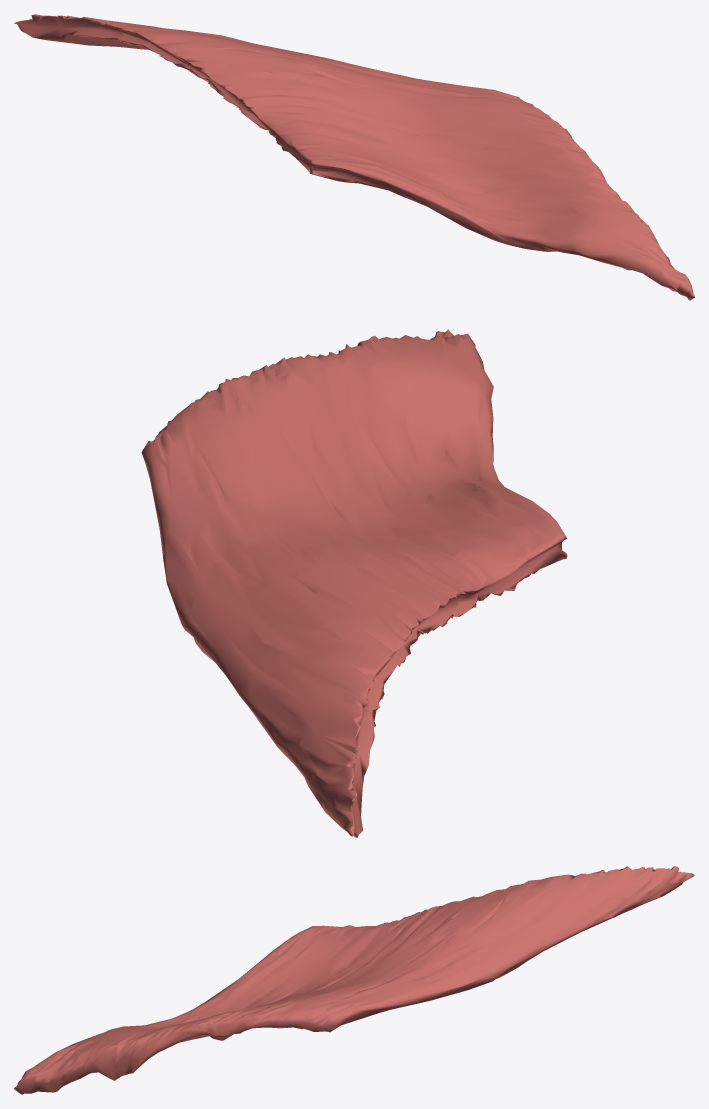
3 renders of one model, top to bottom at view 1: azimuth 30°, elevation 25°; view 2: azimuth 150°, elevation 25°; view 3: azimuth 270°, elevation 25°, orthographic. The views are drawn at different scales.
Visible parts, largest first — view 1: 右侧大菱形肌; view 2: 右侧大菱形肌; view 3: 右侧大菱形肌.
Boxes of the visible parts, x1,y1,x2,y2 form: 右侧大菱形肌: (14, 14, 694, 300); 右侧大菱形肌: (141, 329, 567, 837); 右侧大菱形肌: (14, 866, 694, 1094).
Bounding box in the file's own units: 0.1304 × 0.0456 × 0.2653.
